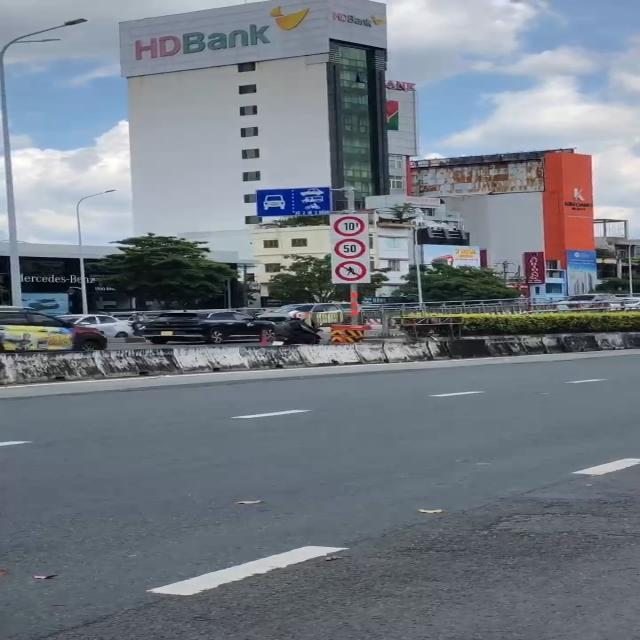Bien bao cam nguoi di bo: (334, 259, 368, 283)
Bien bao toc do toi da cho phep: (330, 237, 368, 259)
